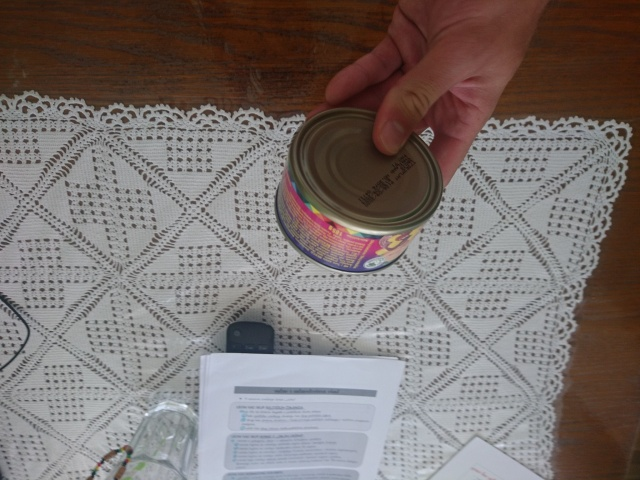Giana Tuna Salad Mexico 185g: (270, 104, 446, 277)
